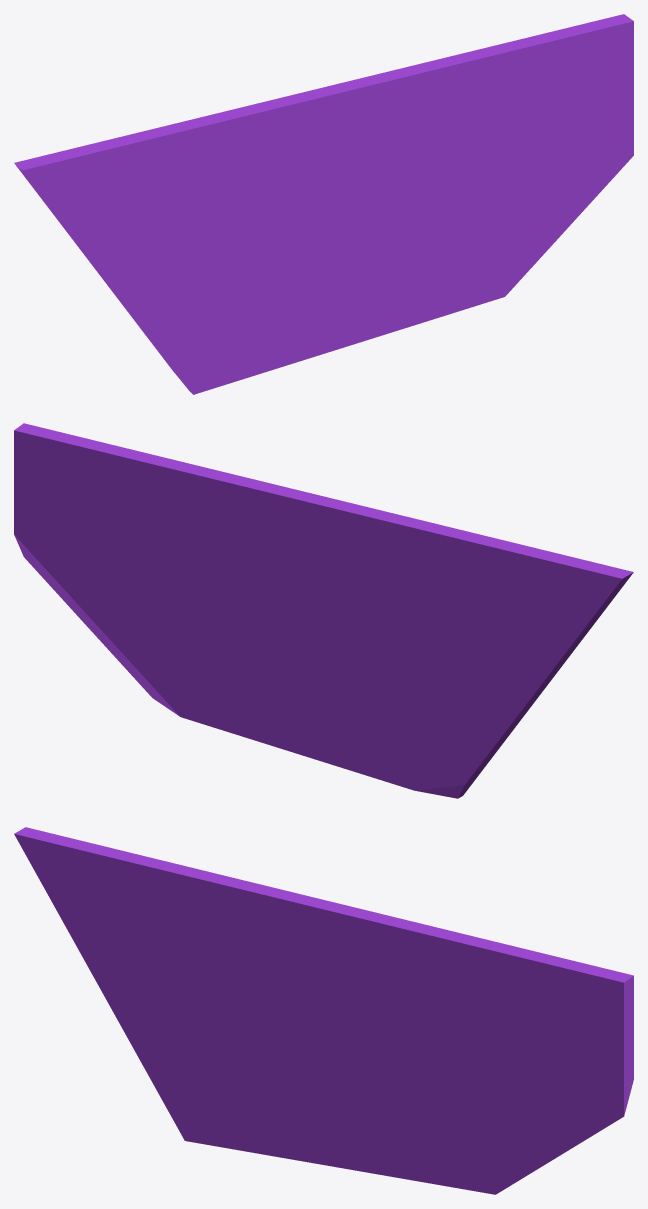
The model's file is Window_40_4_chunks.fbx.
3 renders of one model, top to bottom at view 1: azimuth 30°, elevation 25°; view 2: azimuth 150°, elevation 25°; view 3: azimuth 330°, elevation 25°, orthographic.
Visible parts, largest first — view 1: Window_40_4_0, Window_40_4_5, Window_40_4_8, Window_40_4_9, Window_40_4_4, Window_40_4_2, Window_40_4_3, Window_40_4_7; view 2: Window_40_4_5, Window_40_4_0, Window_40_4_8, Window_40_4_9, Window_40_4_1, Window_40_4_2, Window_40_4_7, Window_40_4_3, Window_40_4_4, Window_40_4_6; view 3: Window_40_4_0, Window_40_4_5, Window_40_4_8, Window_40_4_9, Window_40_4_4, Window_40_4_2, Window_40_4_3, Window_40_4_7.
Boxes of the visible parts, x1,y1,x2,y2 form: Window_40_4_0: [333, 72, 633, 350]; Window_40_4_5: [14, 120, 285, 289]; Window_40_4_8: [191, 67, 437, 229]; Window_40_4_9: [408, 14, 633, 133]; Window_40_4_4: [217, 172, 367, 312]; Window_40_4_2: [109, 283, 257, 394]; Window_40_4_3: [238, 273, 354, 374]; Window_40_4_7: [372, 132, 531, 227]; Window_40_4_5: [357, 525, 633, 702]; Window_40_4_0: [14, 484, 298, 754]; Window_40_4_8: [213, 476, 445, 640]; Window_40_4_9: [14, 423, 239, 544]; Window_40_4_1: [277, 626, 461, 795]; Window_40_4_2: [417, 691, 542, 798]; Window_40_4_7: [114, 543, 273, 638]; Window_40_4_3: [319, 624, 428, 734]; Window_40_4_4: [321, 599, 385, 646]; Window_40_4_6: [181, 531, 227, 571]; Window_40_4_0: [324, 1029, 633, 1194]; Window_40_4_5: [14, 827, 276, 1040]; Window_40_4_8: [202, 870, 428, 1061]; Window_40_4_9: [408, 923, 633, 1043]; Window_40_4_4: [208, 964, 358, 1097]; Window_40_4_2: [105, 997, 248, 1151]; Window_40_4_3: [229, 1081, 345, 1160]; Window_40_4_7: [363, 1000, 521, 1060].
Bounding box in the file's own units: 973 × 405 × 27.2.
